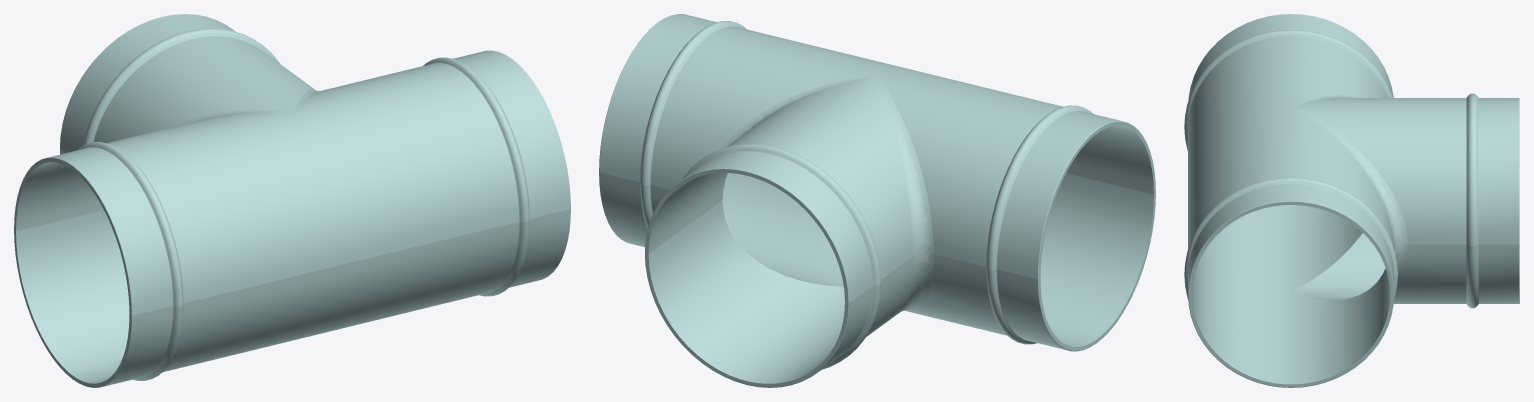
3 renders of one model, left to right at view 1: azimuth 30°, elevation 25°; view 2: azimuth 150°, elevation 25°; view 3: azimuth 270°, elevation 25°, orthographic. The views are drawn at different scales.
Size of the model in its own units: 330 by 160 by 250.
